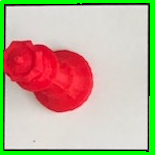Red Queen: (3, 37, 95, 115)
